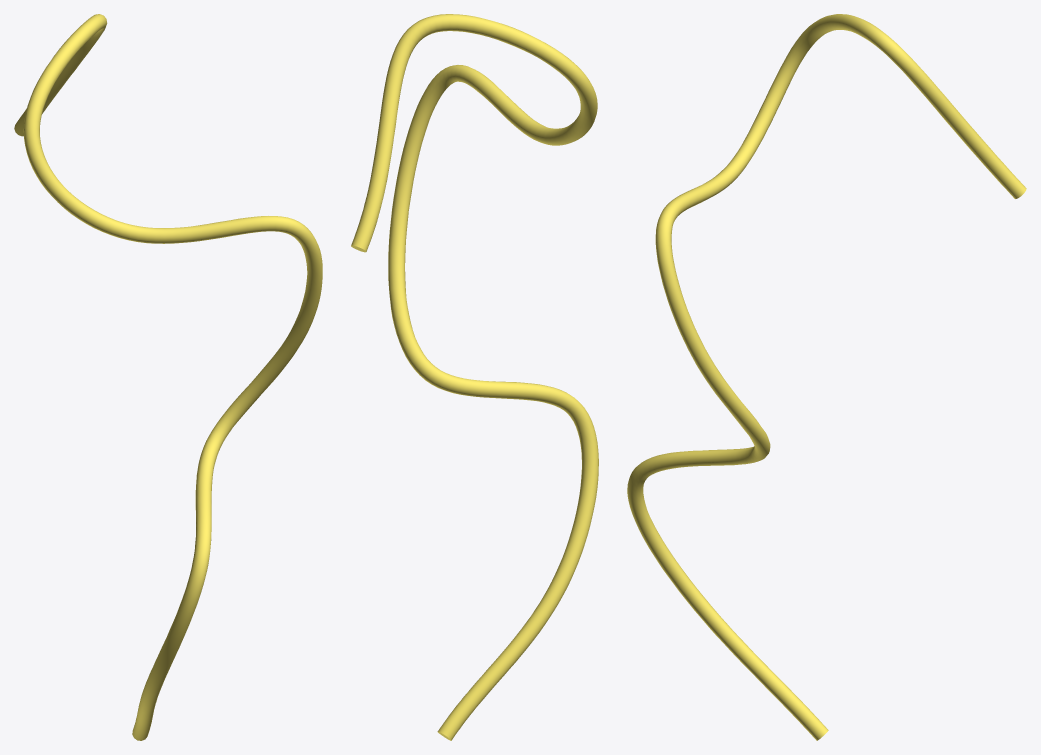
Rendered from 7rsa_loop2_loop.glb.
The picture shows the model from 3 angles, left to right: view 1: azimuth 30°, elevation 25°; view 2: azimuth 150°, elevation 25°; view 3: azimuth 270°, elevation 25°; orthographic projection. The views are drawn at different scales.
Parts seen in each view (by area): view 1: New_Node; view 2: New_Node; view 3: New_Node.
Boxes of the visible parts, box(x1,y1,x2,y2) form: New_Node: box(14, 14, 322, 740); New_Node: box(351, 14, 598, 740); New_Node: box(627, 14, 1026, 740).
Size of the model in its own units: 224020 by 638689 by 328554.
